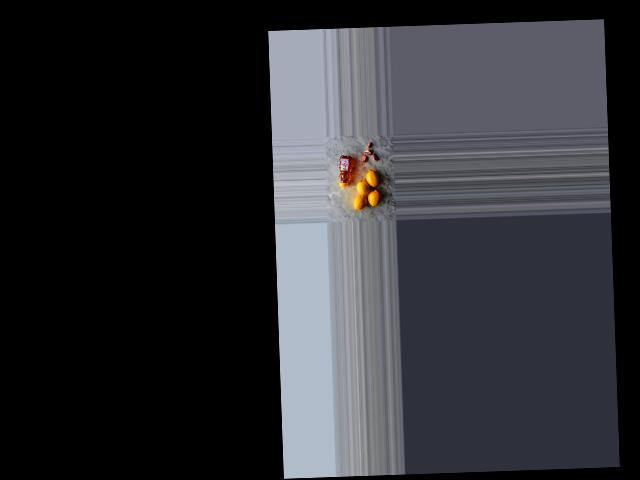lemon: (363, 168, 381, 188)
